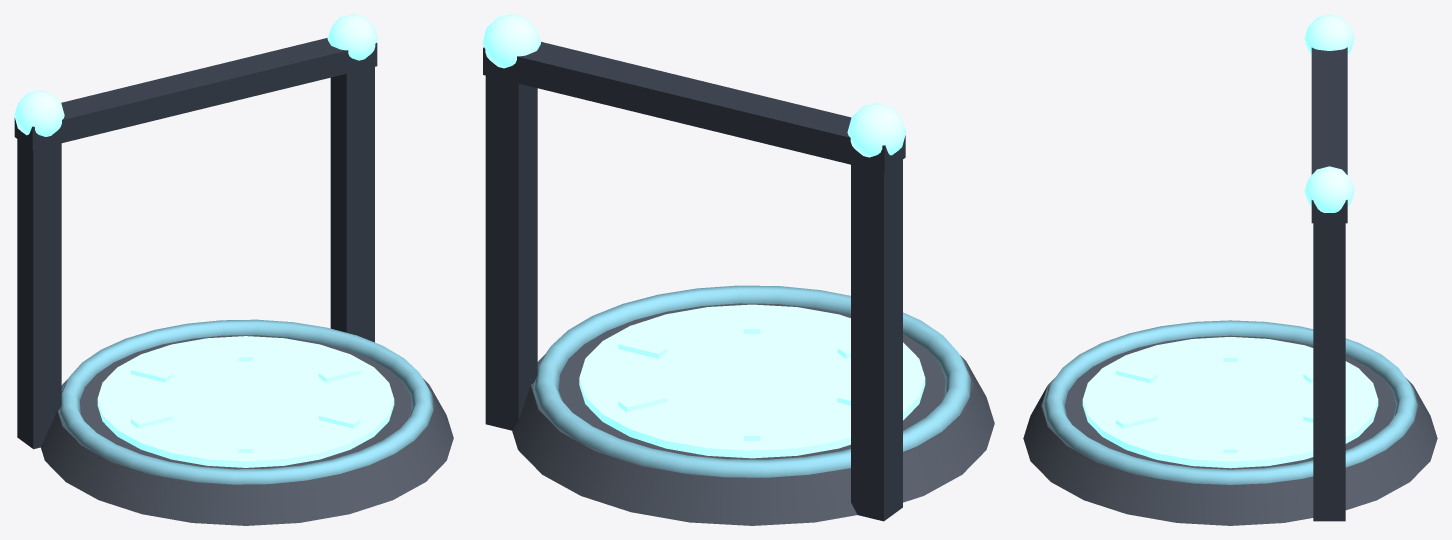
File: f_teleporter.glb
The picture shows the model from 3 angles, left to right: view 1: azimuth 30°, elevation 25°; view 2: azimuth 150°, elevation 25°; view 3: azimuth 270°, elevation 25°; orthographic projection. The views are drawn at different scales.
Visible parts, largest first — view 1: teleporter, padCore, padRing; view 2: teleporter, padCore, padRing; view 3: teleporter, padCore, padRing.
Boxes of the visible parts, box(x1,y1,x2,y2) form: teleporter: box(14, 14, 453, 525); padCore: box(97, 336, 394, 467); padRing: box(131, 340, 360, 452); teleporter: box(482, 14, 994, 525); padCore: box(579, 304, 925, 458); padRing: box(618, 309, 850, 440); teleporter: box(1023, 14, 1437, 525); padCore: box(1082, 337, 1378, 468); padRing: box(1116, 341, 1313, 453).
Size of the model in its own units: 2.3 by 2.12 by 2.3.
